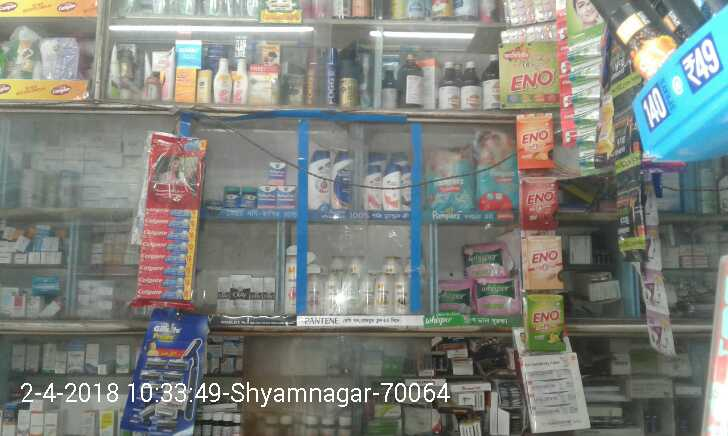vicks: (224, 159, 297, 208)
